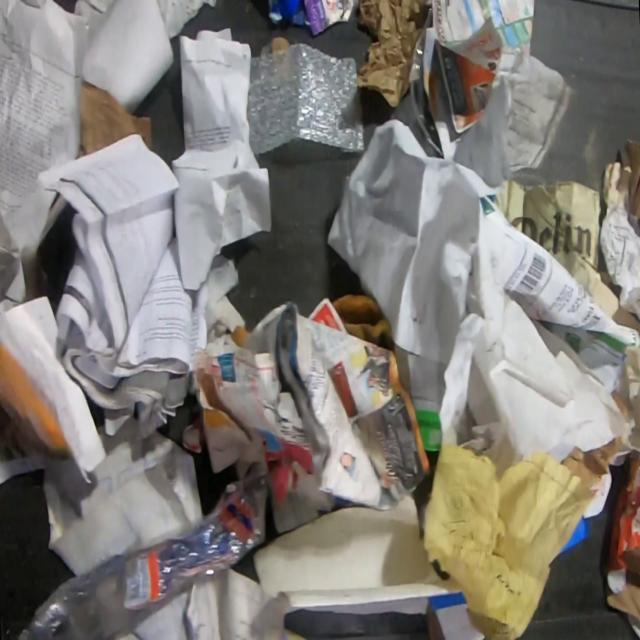cardboard: (494, 178, 640, 336), (74, 78, 154, 160), (604, 452, 640, 621), (560, 434, 630, 496), (331, 290, 390, 349), (303, 0, 356, 38), (624, 136, 640, 217)
rigid_plastic: (407, 7, 444, 158)
soft_plastic: (18, 461, 271, 640), (247, 41, 365, 156)
